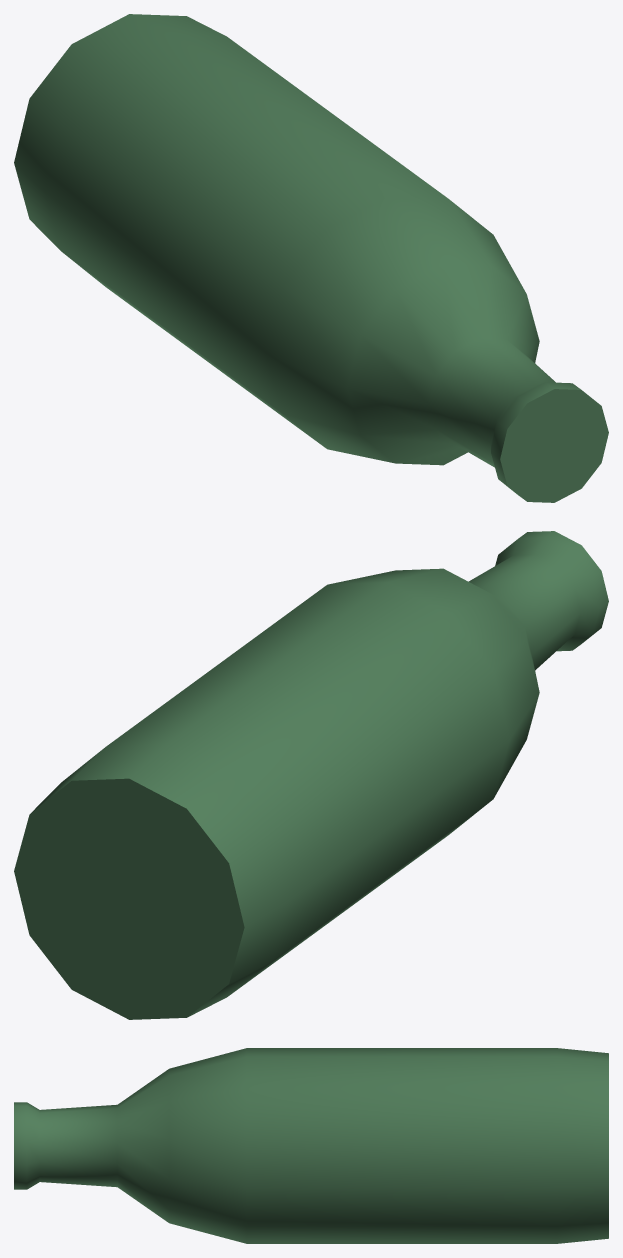
Rendered from item_bottle_hand.glb.
The picture shows the model from 3 angles, top to bottom: view 1: azimuth 30°, elevation 25°; view 2: azimuth 150°, elevation 25°; view 3: azimuth 270°, elevation 25°; orthographic projection. The views are drawn at different scales.
Visible parts, largest first — view 1: bottle; view 2: bottle; view 3: bottle.
Boxes of the visible parts, x1=… form: bottle: x1=14, y1=14, x2=608, y2=502; bottle: x1=14, y1=531, x2=608, y2=1019; bottle: x1=14, y1=1048, x2=608, y2=1243.
Bounding box in the file's own units: 0.076 × 0.076 × 0.23.
